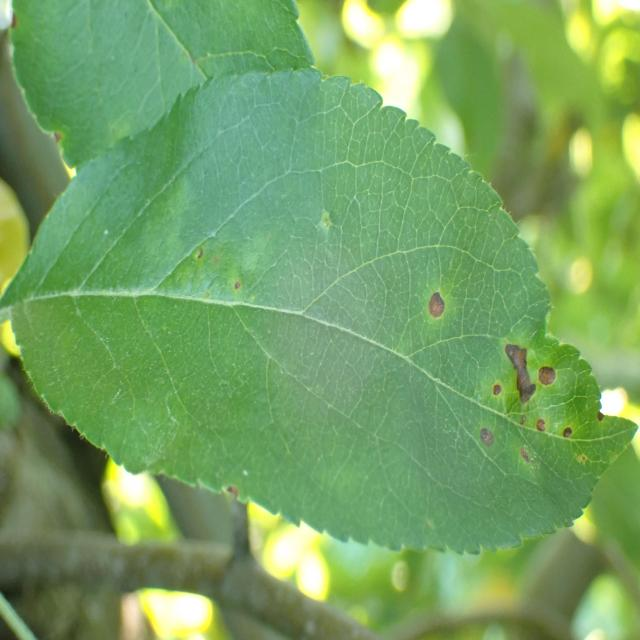frog-eye-leaf-spot: (2, 66, 640, 558)
